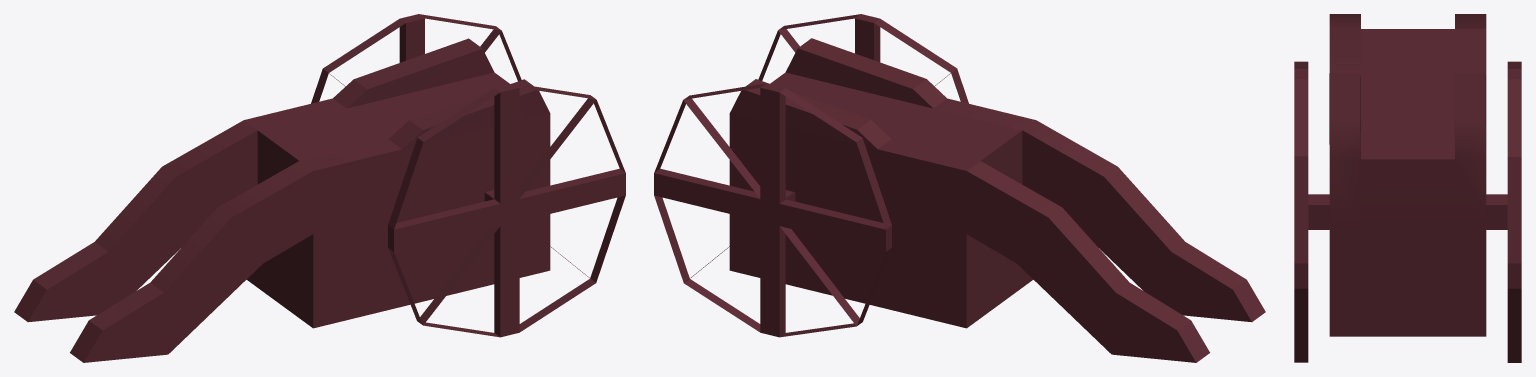
The model's file is nnon.fbx.
The picture shows the model from 3 angles, left to right: view 1: azimuth 30°, elevation 25°; view 2: azimuth 150°, elevation 25°; view 3: azimuth 270°, elevation 25°; orthographic projection. The views are drawn at different scales.
Visible parts, largest first — view 1: can; view 2: can; view 3: can.
Boxes of the visible parts, <box> form: can: <box>14,14,625,362</box>; can: <box>654,14,1265,362</box>; can: <box>1294,14,1521,362</box>.
Size of the model in its own units: 592 by 263 by 196.
